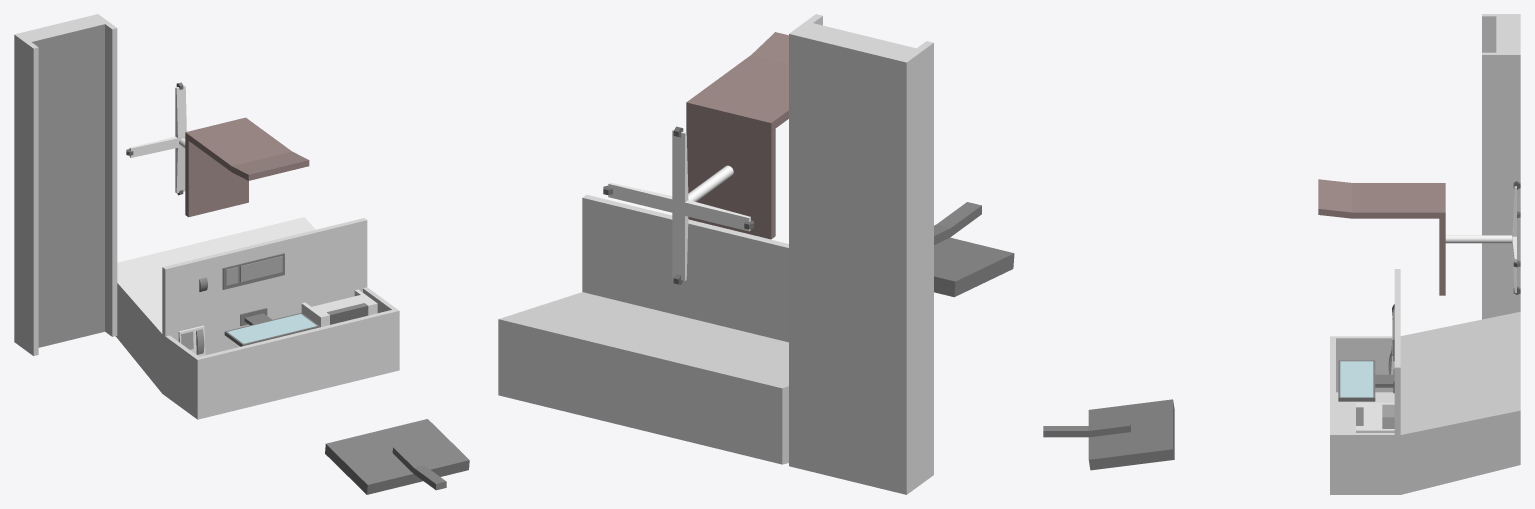
The model's file is check_in_counter_2.dae.
3 views of the same model, side by side, from view 1: azimuth 30°, elevation 25°; view 2: azimuth 150°, elevation 25°; view 3: azimuth 270°, elevation 25° (orthographic). The views are drawn at different scales.
Visible parts, largest first — view 1: instance_0_017, instance_0_019, instance_0_018, instance_0_003, instance_0_020, instance_0_006, instance_0_010, instance_0_007, instance_0, instance_0_005, instance_0_021, instance_0_014; view 2: instance_0_018, instance_0_017, instance_0_003, instance_0_006, instance_0_020; view 3: instance_0_017, instance_0_018, instance_0_020, instance_0_003, instance_0_010, instance_0_006, instance_0, instance_0_005.
Boxes of the visible parts, x1,y1,x2,y2 form: instance_0_017: (115, 217, 399, 419); instance_0_019: (32, 24, 104, 347); instance_0_018: (14, 14, 117, 355); instance_0_003: (185, 117, 309, 217); instance_0_020: (325, 419, 469, 494); instance_0_006: (129, 85, 186, 193); instance_0_010: (227, 314, 316, 343); instance_0_007: (181, 256, 282, 349); instance_0: (301, 289, 377, 327); instance_0_005: (224, 313, 319, 346); instance_0_021: (222, 253, 284, 289); instance_0_014: (327, 303, 368, 324); instance_0_018: (789, 14, 933, 494); instance_0_017: (498, 194, 788, 464); instance_0_003: (686, 32, 788, 239); instance_0_006: (608, 129, 750, 280); instance_0_020: (934, 202, 1014, 297); instance_0_017: (1330, 269, 1520, 494); instance_0_018: (1482, 14, 1520, 319); instance_0_020: (1043, 399, 1174, 470); instance_0_003: (1318, 179, 1445, 295); instance_0_010: (1340, 361, 1373, 397); instance_0_006: (1445, 186, 1516, 292); instance_0: (1356, 402, 1394, 432); instance_0_005: (1338, 360, 1393, 401).
Size of the model in its own units: 920 by 1028 by 1305.
